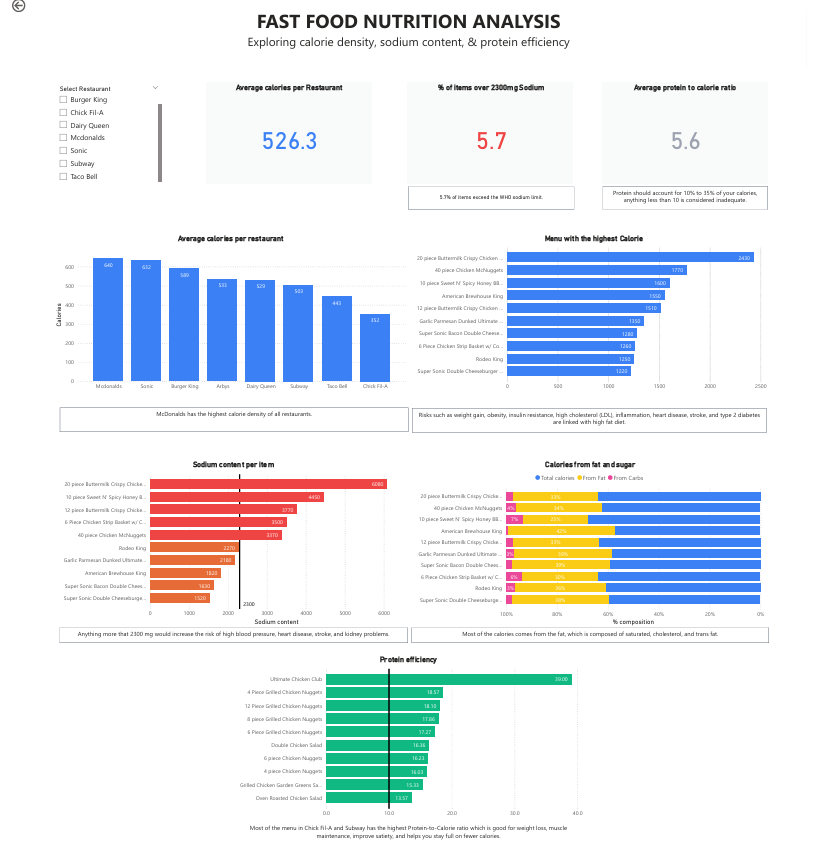

What the dashboard file says about the page in this screenshot:
{"tool":"powerbi","page":{"name":"Food information","canvas":[1800,1950],"ordinal":0},"visuals":[{"type":"columnChart","title":"Average calories per restaurant","fields":{"Category":["fastfood_cleaned.restaurant"],"Y":["Avg(fastfood_cleaned.calories)"]},"box":[98,536,802,364],"z":0},{"type":"actionButton","box":[0,0,100,40],"z":1000},{"type":"clusteredBarChart","title":"Menu with the highest Calorie","fields":{"Category":["fastfood_cleaned.item"],"Y":["Sum(fastfood_cleaned.calories)"]},"box":[902,536,836,364],"z":2000},{"type":"slicer","fields":{"Values":["fastfood_cleaned.restaurant"]},"box":[100,195,247.5,230],"z":3000},{"type":"clusteredBarChart","title":"Sodium content per item","fields":{"Y":["Sum(fastfood_cleaned.sodium)"],"Category":["fastfood_cleaned.item"]},"box":[103.2,1048.2,803.3,378.3],"z":4000},{"type":"hundredPercentStackedBarChart","title":"Calories from fat and sugar","fields":{"Category":["fastfood_cleaned.item"],"Y":["Sum(fastfood_cleaned.calories)","Sum(fastfood_cleaned.cal_fat)","Sum(fastfood_cleaned.total_carb)"]},"box":[906.5,1048.2,810,378.3],"z":5000},{"type":"textbox","box":[510,20,782.5,122.5],"z":6000},{"type":"card","title":"Average calories per Restaurant","fields":{"Values":["Avg(fastfood_cleaned.calories)"]},"box":[445,195,372.5,230],"z":7000},{"type":"card","title":"% of items over 2300mg Sodium","fields":{"Values":["fastfood_cleaned.% Items Over 2300 mg Na"]},"box":[900,195,375,230],"z":8000},{"type":"card","title":"Average protein to calorie ratio","fields":{"Values":["Avg(fastfood_cleaned.protein_efficiency)"]},"box":[1340,195,372.5,230],"z":9000},{"type":"textbox","box":[112.9,928.6,788.6,55.7],"z":10000},{"type":"card","fields":{"Values":["fastfood_cleaned.SodiumLimitSentence"]},"box":[900,428.6,375.7,52.9],"z":11000},{"type":"textbox","box":[1340,428.3,373.3,53.3],"z":12000},{"type":"textbox","box":[908,1426,808,35],"z":13000},{"type":"textbox","box":[112,1426,788,35],"z":14000},{"type":"textbox","box":[908.6,930,802.9,55.7],"z":15000},{"type":"clusteredBarChart","title":"Protein efficiency","fields":{"Category":["fastfood_cleaned.item"],"Y":["Sum(fastfood_cleaned.protein_efficiency)"]},"box":[502.5,1487.5,797.5,377.5],"z":16000},{"type":"textbox","box":[100,0,248,150],"z":16001},{"type":"textbox","box":[510,1866,782,54],"z":16002}]}

Visuals, with their boxes in screenshot pixels (x1, y1, x2, y2), scaled from the page's 1800x1950 canvas onto the 815x868 screenshot:
"Average calories per restaurant" columnChart: {"left": 44, "top": 239, "right": 408, "bottom": 401}
actionButton: {"left": 0, "top": 0, "right": 45, "bottom": 18}
"Menu with the highest Calorie" clusteredBarChart: {"left": 408, "top": 239, "right": 787, "bottom": 401}
slicer - fastfood_cleaned.restaurant: {"left": 45, "top": 87, "right": 157, "bottom": 189}
"Sodium content per item" clusteredBarChart: {"left": 47, "top": 467, "right": 410, "bottom": 635}
"Calories from fat and sugar" hundredPercentStackedBarChart: {"left": 410, "top": 467, "right": 777, "bottom": 635}
textbox: {"left": 231, "top": 9, "right": 585, "bottom": 63}
"Average calories per Restaurant" card: {"left": 201, "top": 87, "right": 370, "bottom": 189}
"% of items over 2300mg Sodium" card: {"left": 408, "top": 87, "right": 577, "bottom": 189}
"Average protein to calorie ratio" card: {"left": 607, "top": 87, "right": 775, "bottom": 189}
textbox: {"left": 51, "top": 413, "right": 408, "bottom": 438}
card - fastfood_cleaned.SodiumLimitSentence: {"left": 408, "top": 191, "right": 578, "bottom": 214}
textbox: {"left": 607, "top": 191, "right": 776, "bottom": 214}
textbox: {"left": 411, "top": 635, "right": 777, "bottom": 650}
textbox: {"left": 51, "top": 635, "right": 408, "bottom": 650}
textbox: {"left": 411, "top": 414, "right": 775, "bottom": 439}
"Protein efficiency" clusteredBarChart: {"left": 228, "top": 662, "right": 589, "bottom": 830}
textbox: {"left": 45, "top": 0, "right": 158, "bottom": 67}
textbox: {"left": 231, "top": 831, "right": 585, "bottom": 855}
